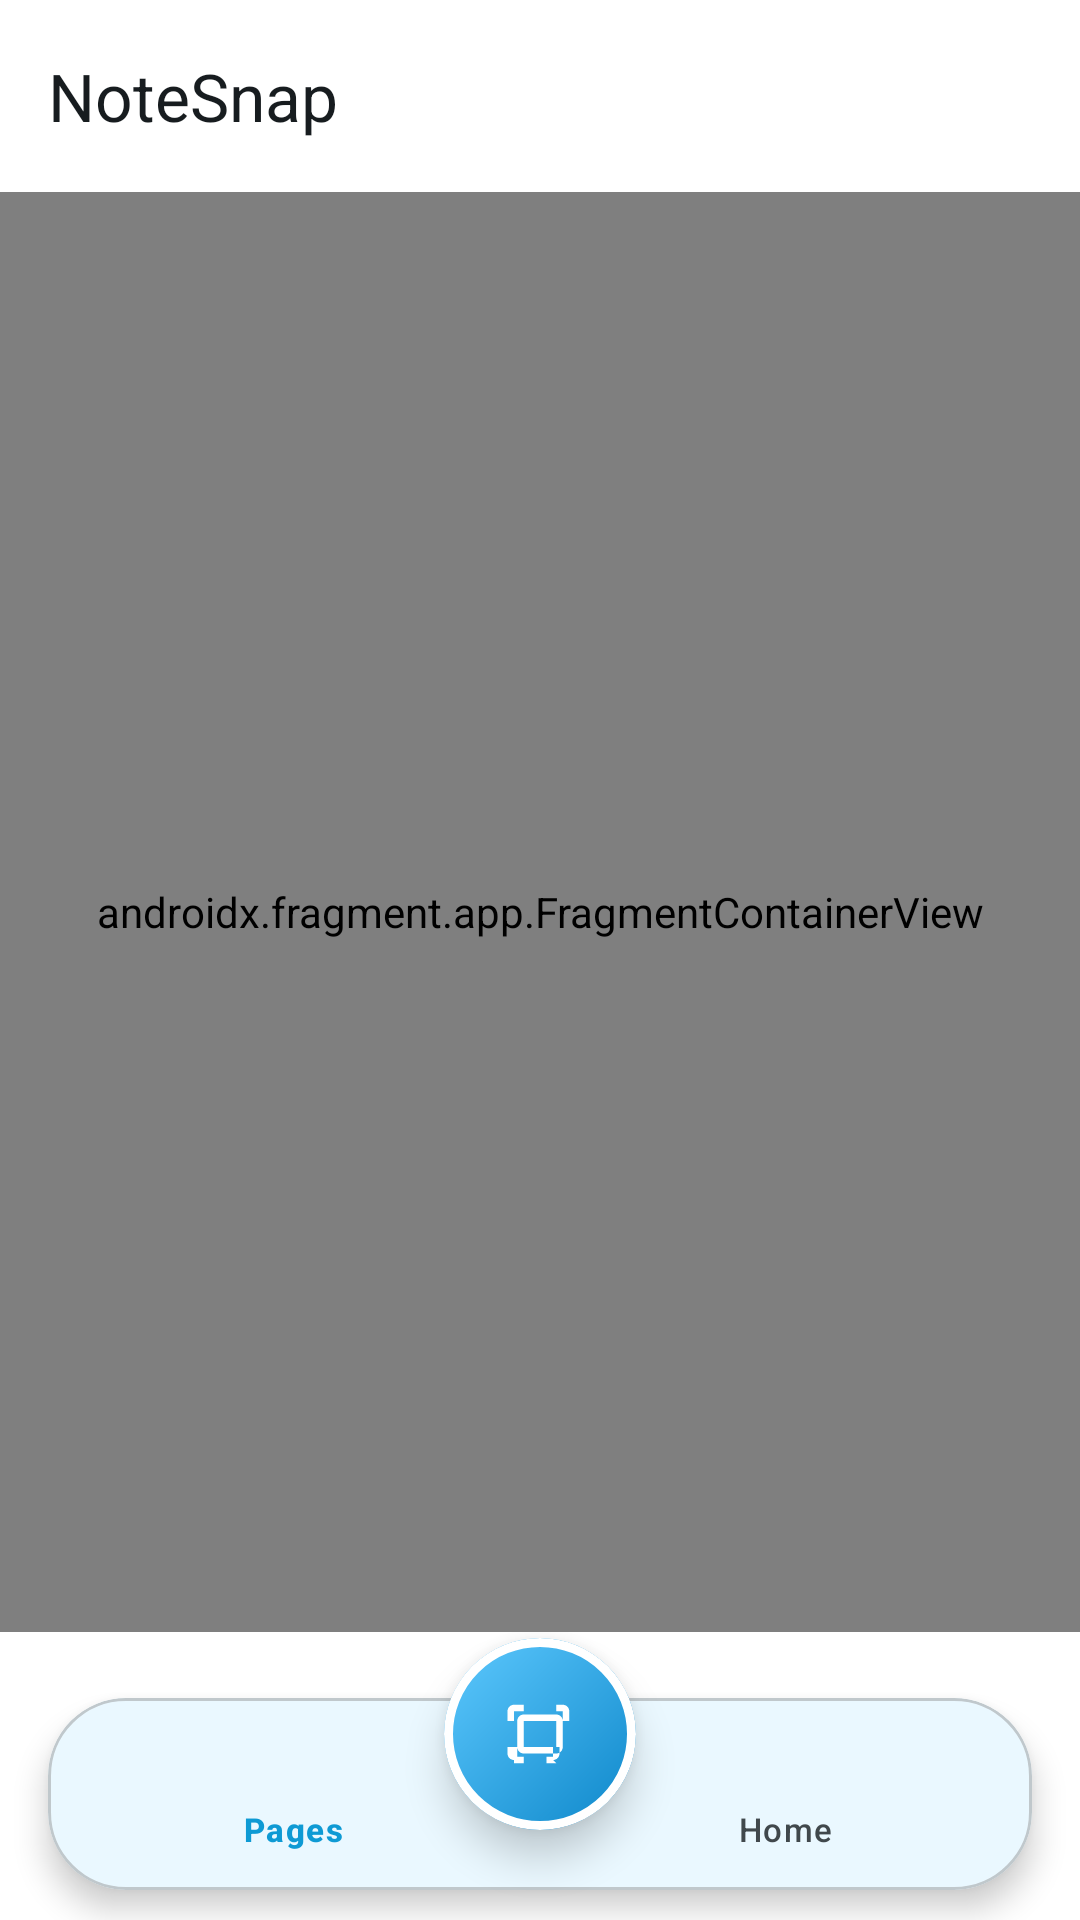

Point at icon controls on the screen. Image size 1080 × 1920, points as point (x, y).
Scan: point (540, 1734)
